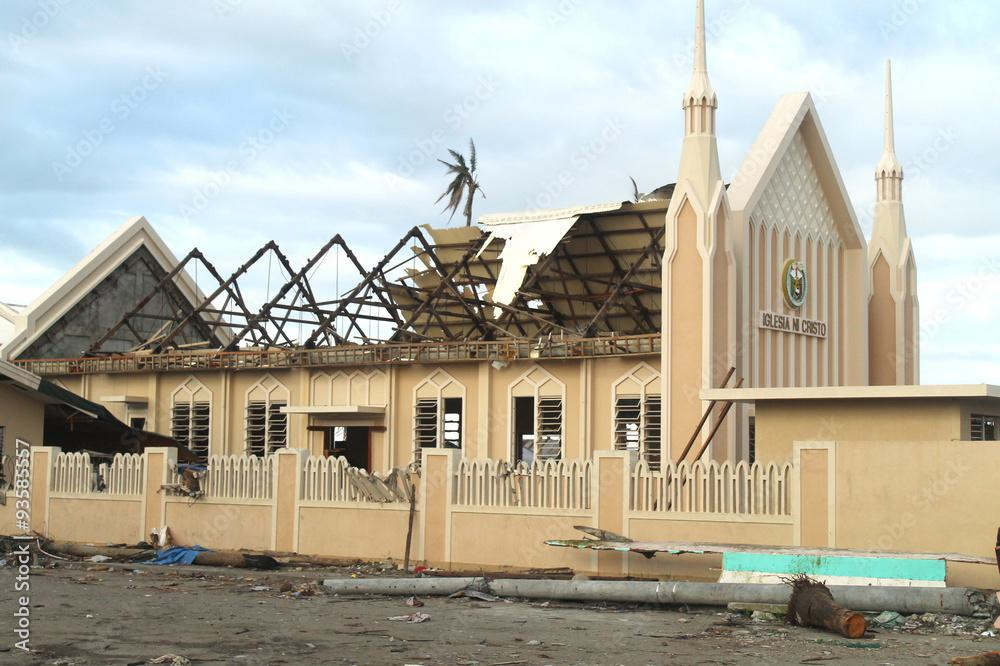sagging_roof: (81, 189, 675, 360)
